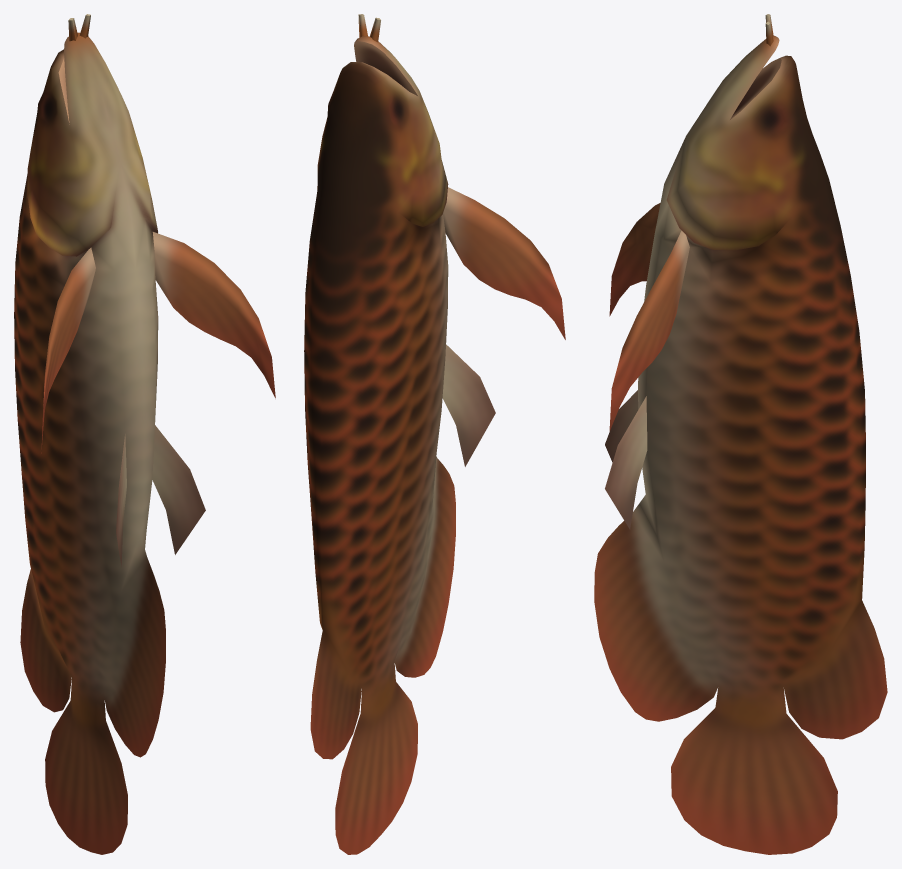
The model's file is arowana.glb.
The picture shows the model from 3 angles, left to right: view 1: azimuth 30°, elevation 25°; view 2: azimuth 150°, elevation 25°; view 3: azimuth 270°, elevation 25°; orthographic projection.
Visible parts, largest first — view 1: FishArowana__mArowana; view 2: FishArowana__mArowana; view 3: FishArowana__mArowana.
Boxes of the visible parts, left/top/right/bottom form: FishArowana__mArowana: left=14, top=14, right=275, bottom=854; FishArowana__mArowana: left=304, top=14, right=565, bottom=854; FishArowana__mArowana: left=594, top=14, right=887, bottom=854.
Bounding box in the file's own units: 0.3639 × 1.23 × 0.3914.
Materials: 1 (1 with a texture image).
